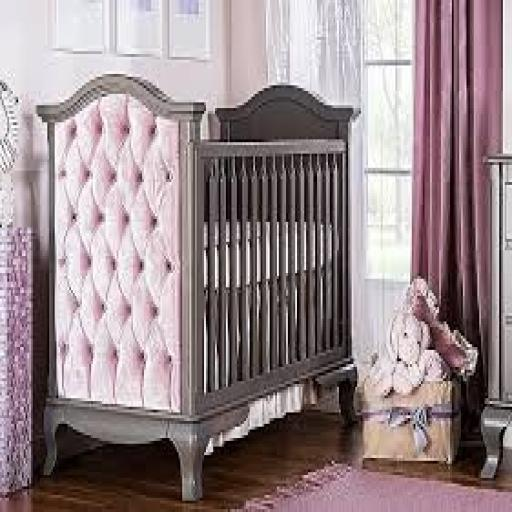crib: (35, 75, 361, 502)
